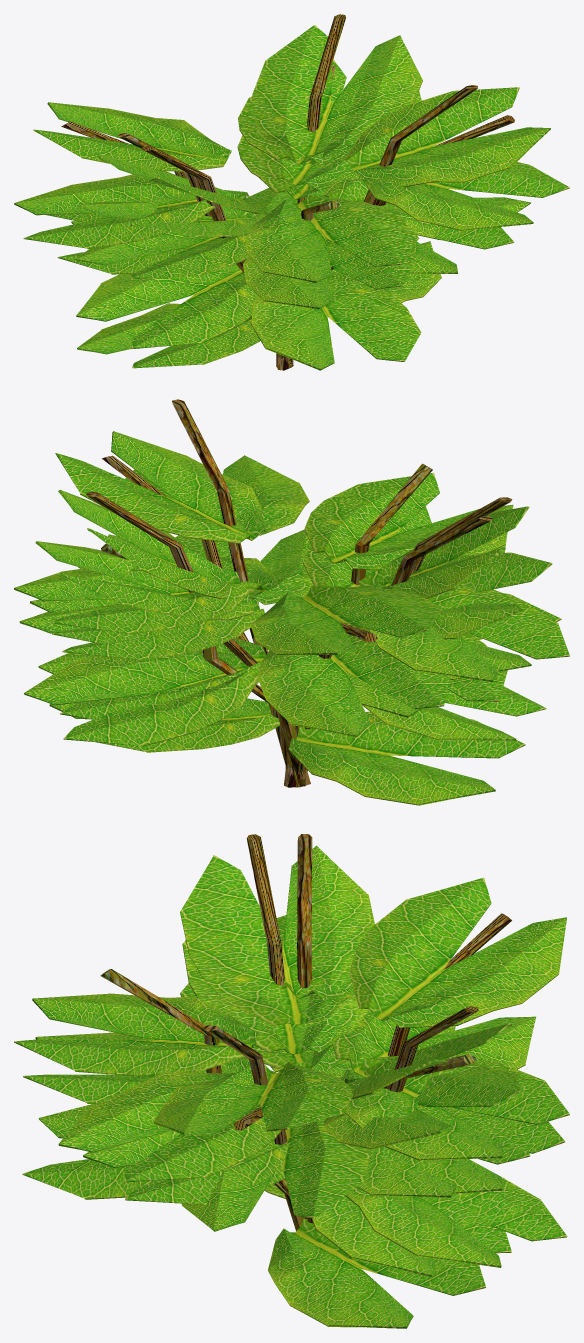
File: Grass2.fbx
3 renders of one model, top to bottom at view 1: azimuth 30°, elevation 25°; view 2: azimuth 150°, elevation 25°; view 3: azimuth 270°, elevation 25°, orthographic. The views are drawn at different scales.
Visible parts, largest first — view 1: Cylinder; view 2: Cylinder; view 3: Cylinder.
Part boxes in pixels (x1,y1,x2,y2): Cylinder: (14,14,569,370); Cylinder: (14,399,569,805); Cylinder: (14,834,569,1328).
Size of the model in its own units: 137 by 75.64 by 110.
Materials: 2 (2 with a texture image).
